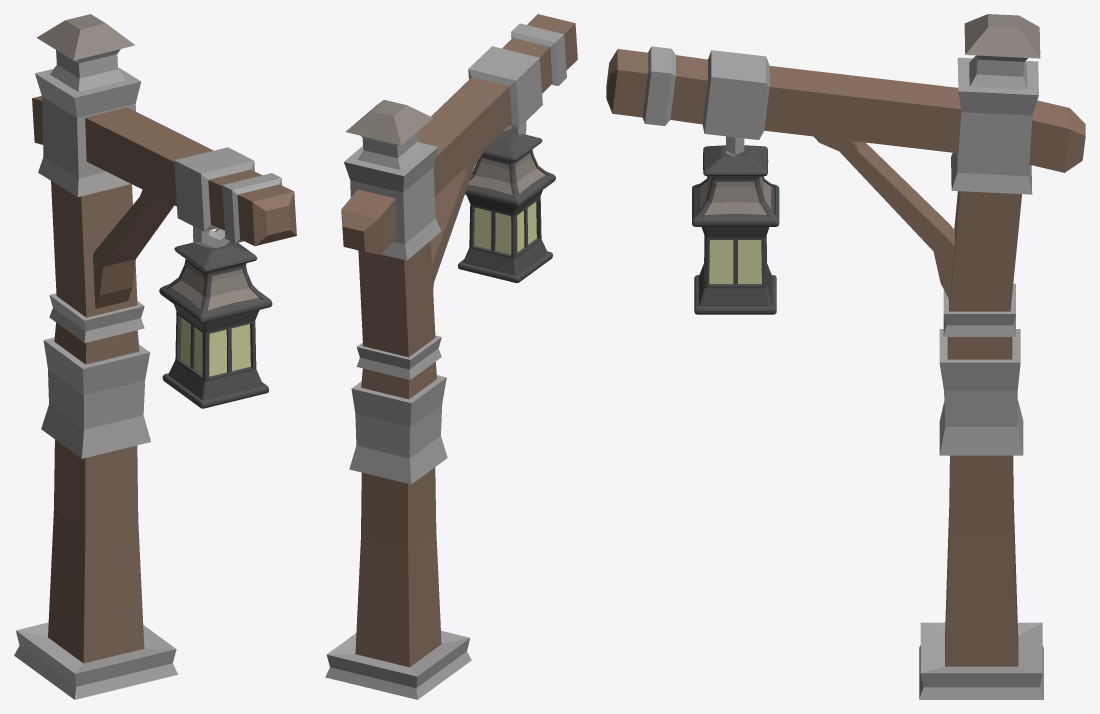
The model's file is street_light.fbx.
3 views of the same model, side by side, from view 1: azimuth 30°, elevation 25°; view 2: azimuth 150°, elevation 25°; view 3: azimuth 270°, elevation 25° (orthographic). The views are drawn at different scales.
Visible parts, largest first — view 1: street_light1; view 2: street_light1; view 3: street_light1.
Boxes of the visible parts, left/top/right/bottom form: street_light1: left=14, top=14, right=296, bottom=699; street_light1: left=325, top=14, right=577, bottom=699; street_light1: left=606, top=14, right=1085, bottom=699.
Bounding box in the file's own units: 0.1032 × 0.6057 × 0.4026.
